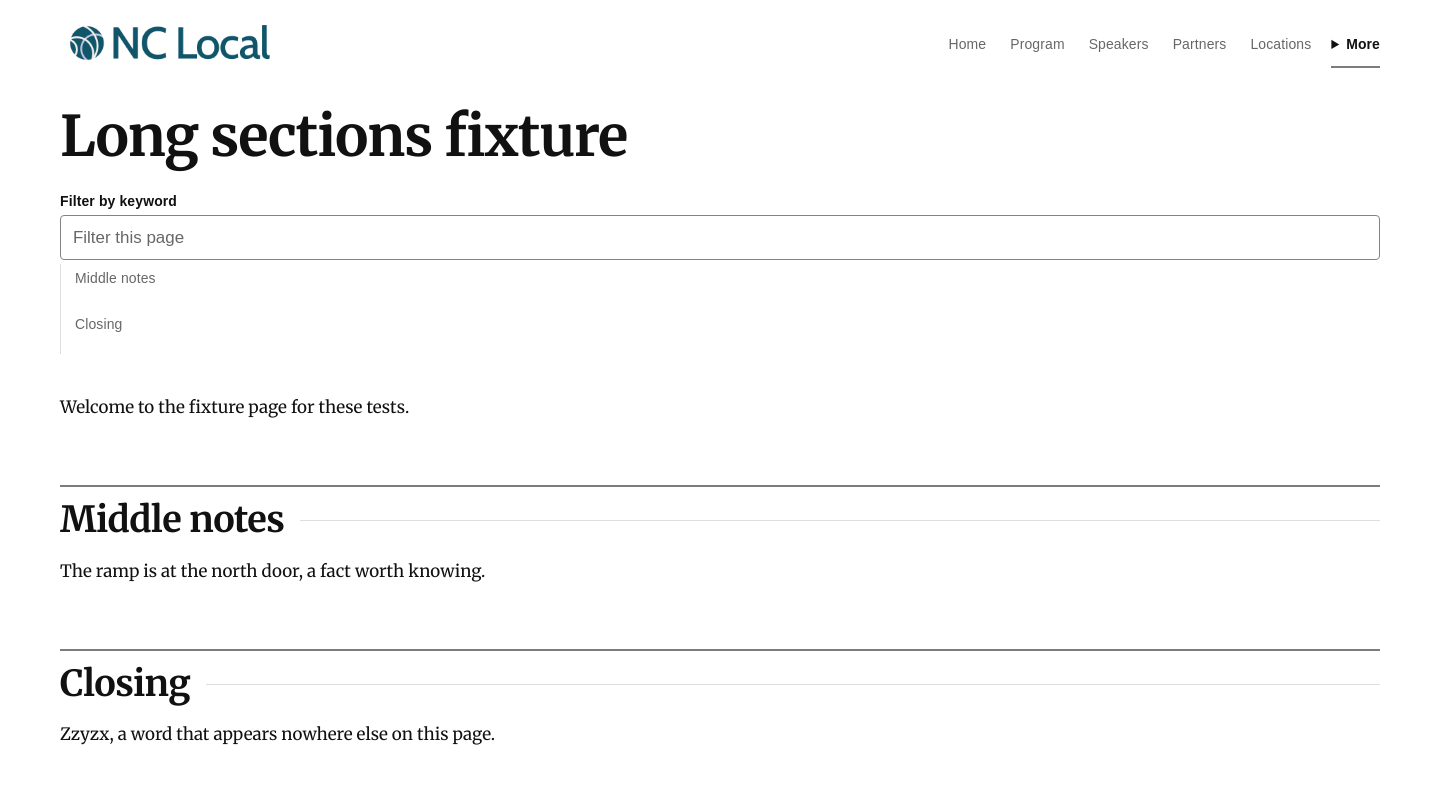
Test: ContentPage — search and section index on long pages › states the empty result when nothing matches, and clearing restores the page and focus
Expected: the heading "Long sections fixture" is shown, [60,101,627,171]
Type "zzzznotarealword" into the search field labelled "Filter by keyword" at coordinates (720, 238), box [60,215,1380,260]
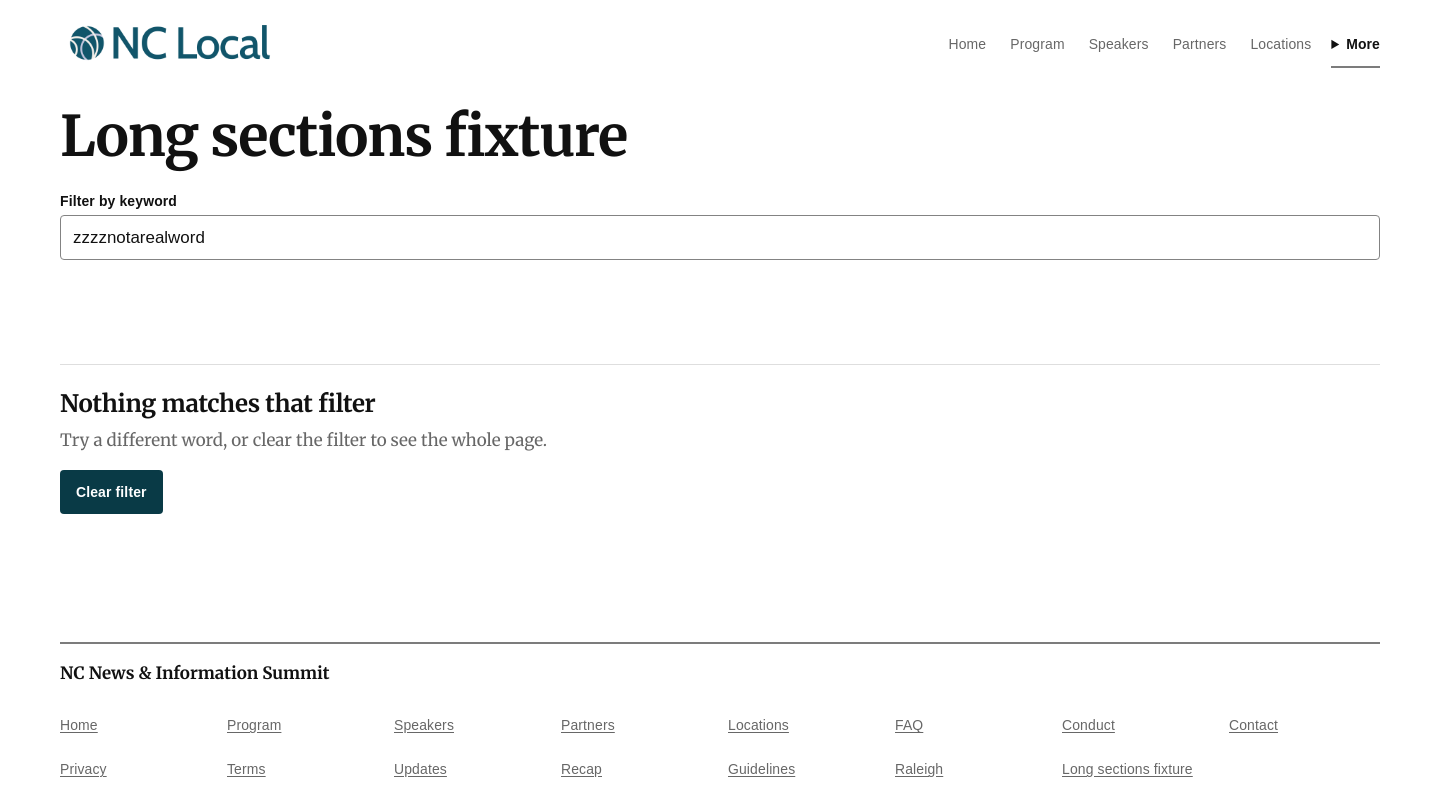
Result: the heading "Nothing matches that filter" is shown at [60,388,376,419]
Result: the link "Closing" is gone
Click the button "Clear filter" at coordinates (111, 492), box [60,470,163,514]
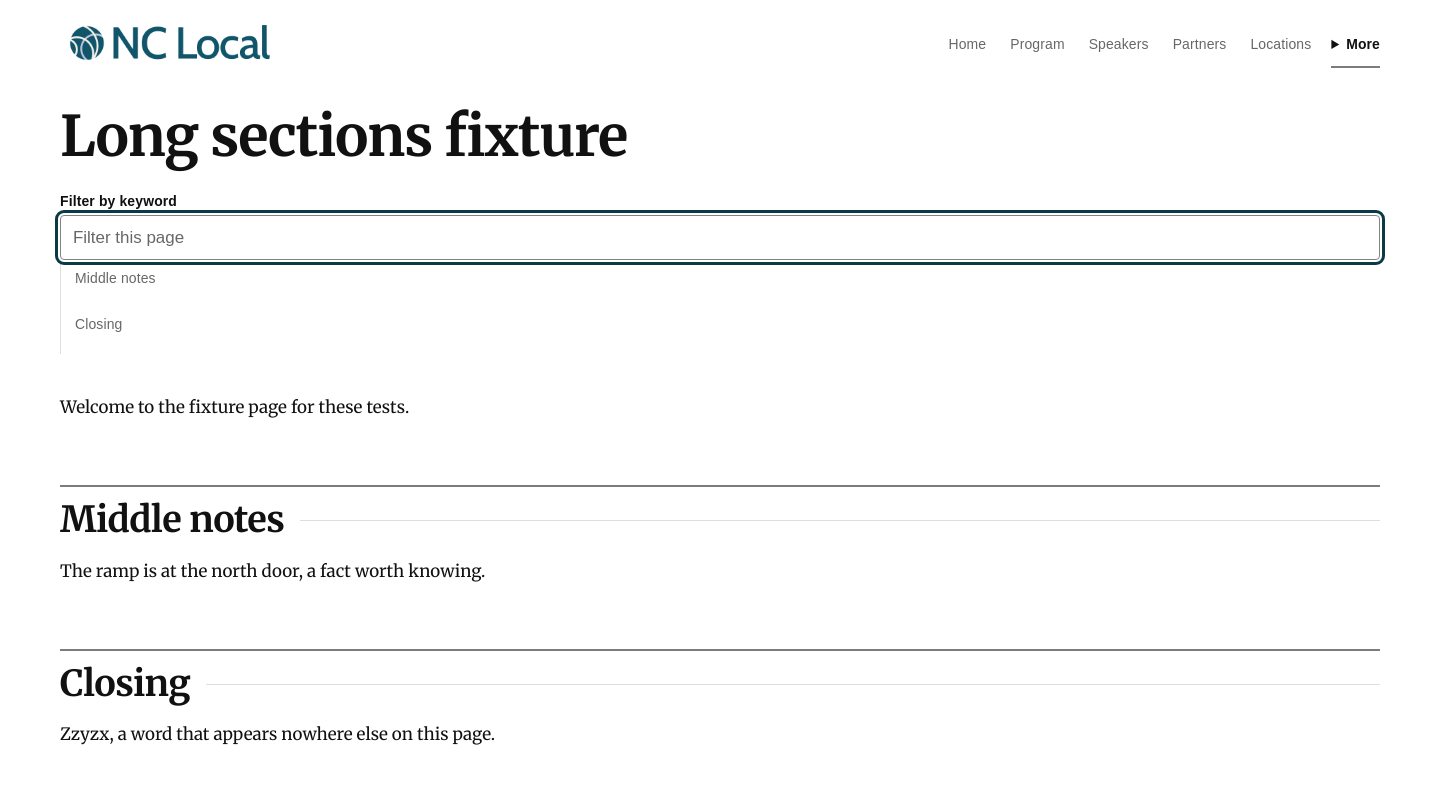
Result: the heading "Closing" is shown at [60,663,190,705]
Result: the heading "Nothing matches that filter" is gone
